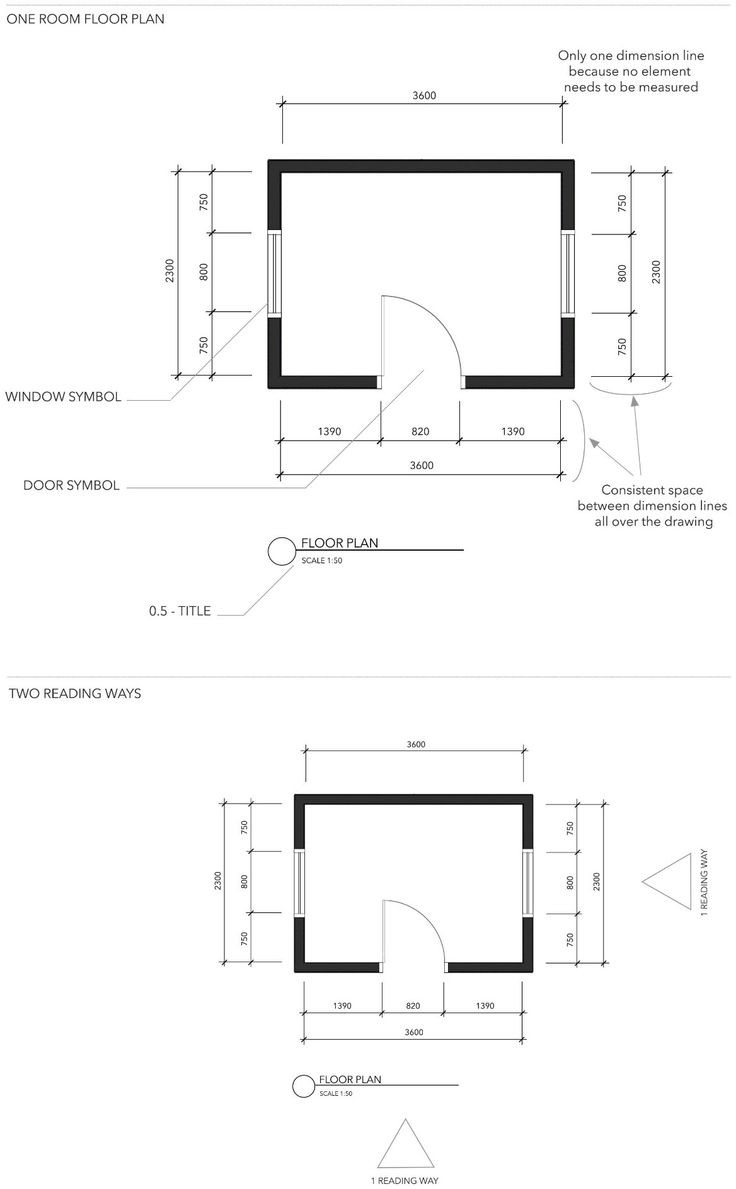door: (368, 288, 468, 383), (372, 892, 459, 977)
room: (247, 132, 583, 397), (279, 788, 541, 979)
wall: (263, 128, 576, 188), (285, 781, 541, 817), (479, 350, 570, 403), (454, 939, 537, 985), (281, 947, 374, 988), (550, 321, 588, 405), (261, 307, 290, 396)
window: (261, 232, 301, 316), (279, 850, 319, 919), (514, 848, 550, 921), (547, 234, 579, 316)
